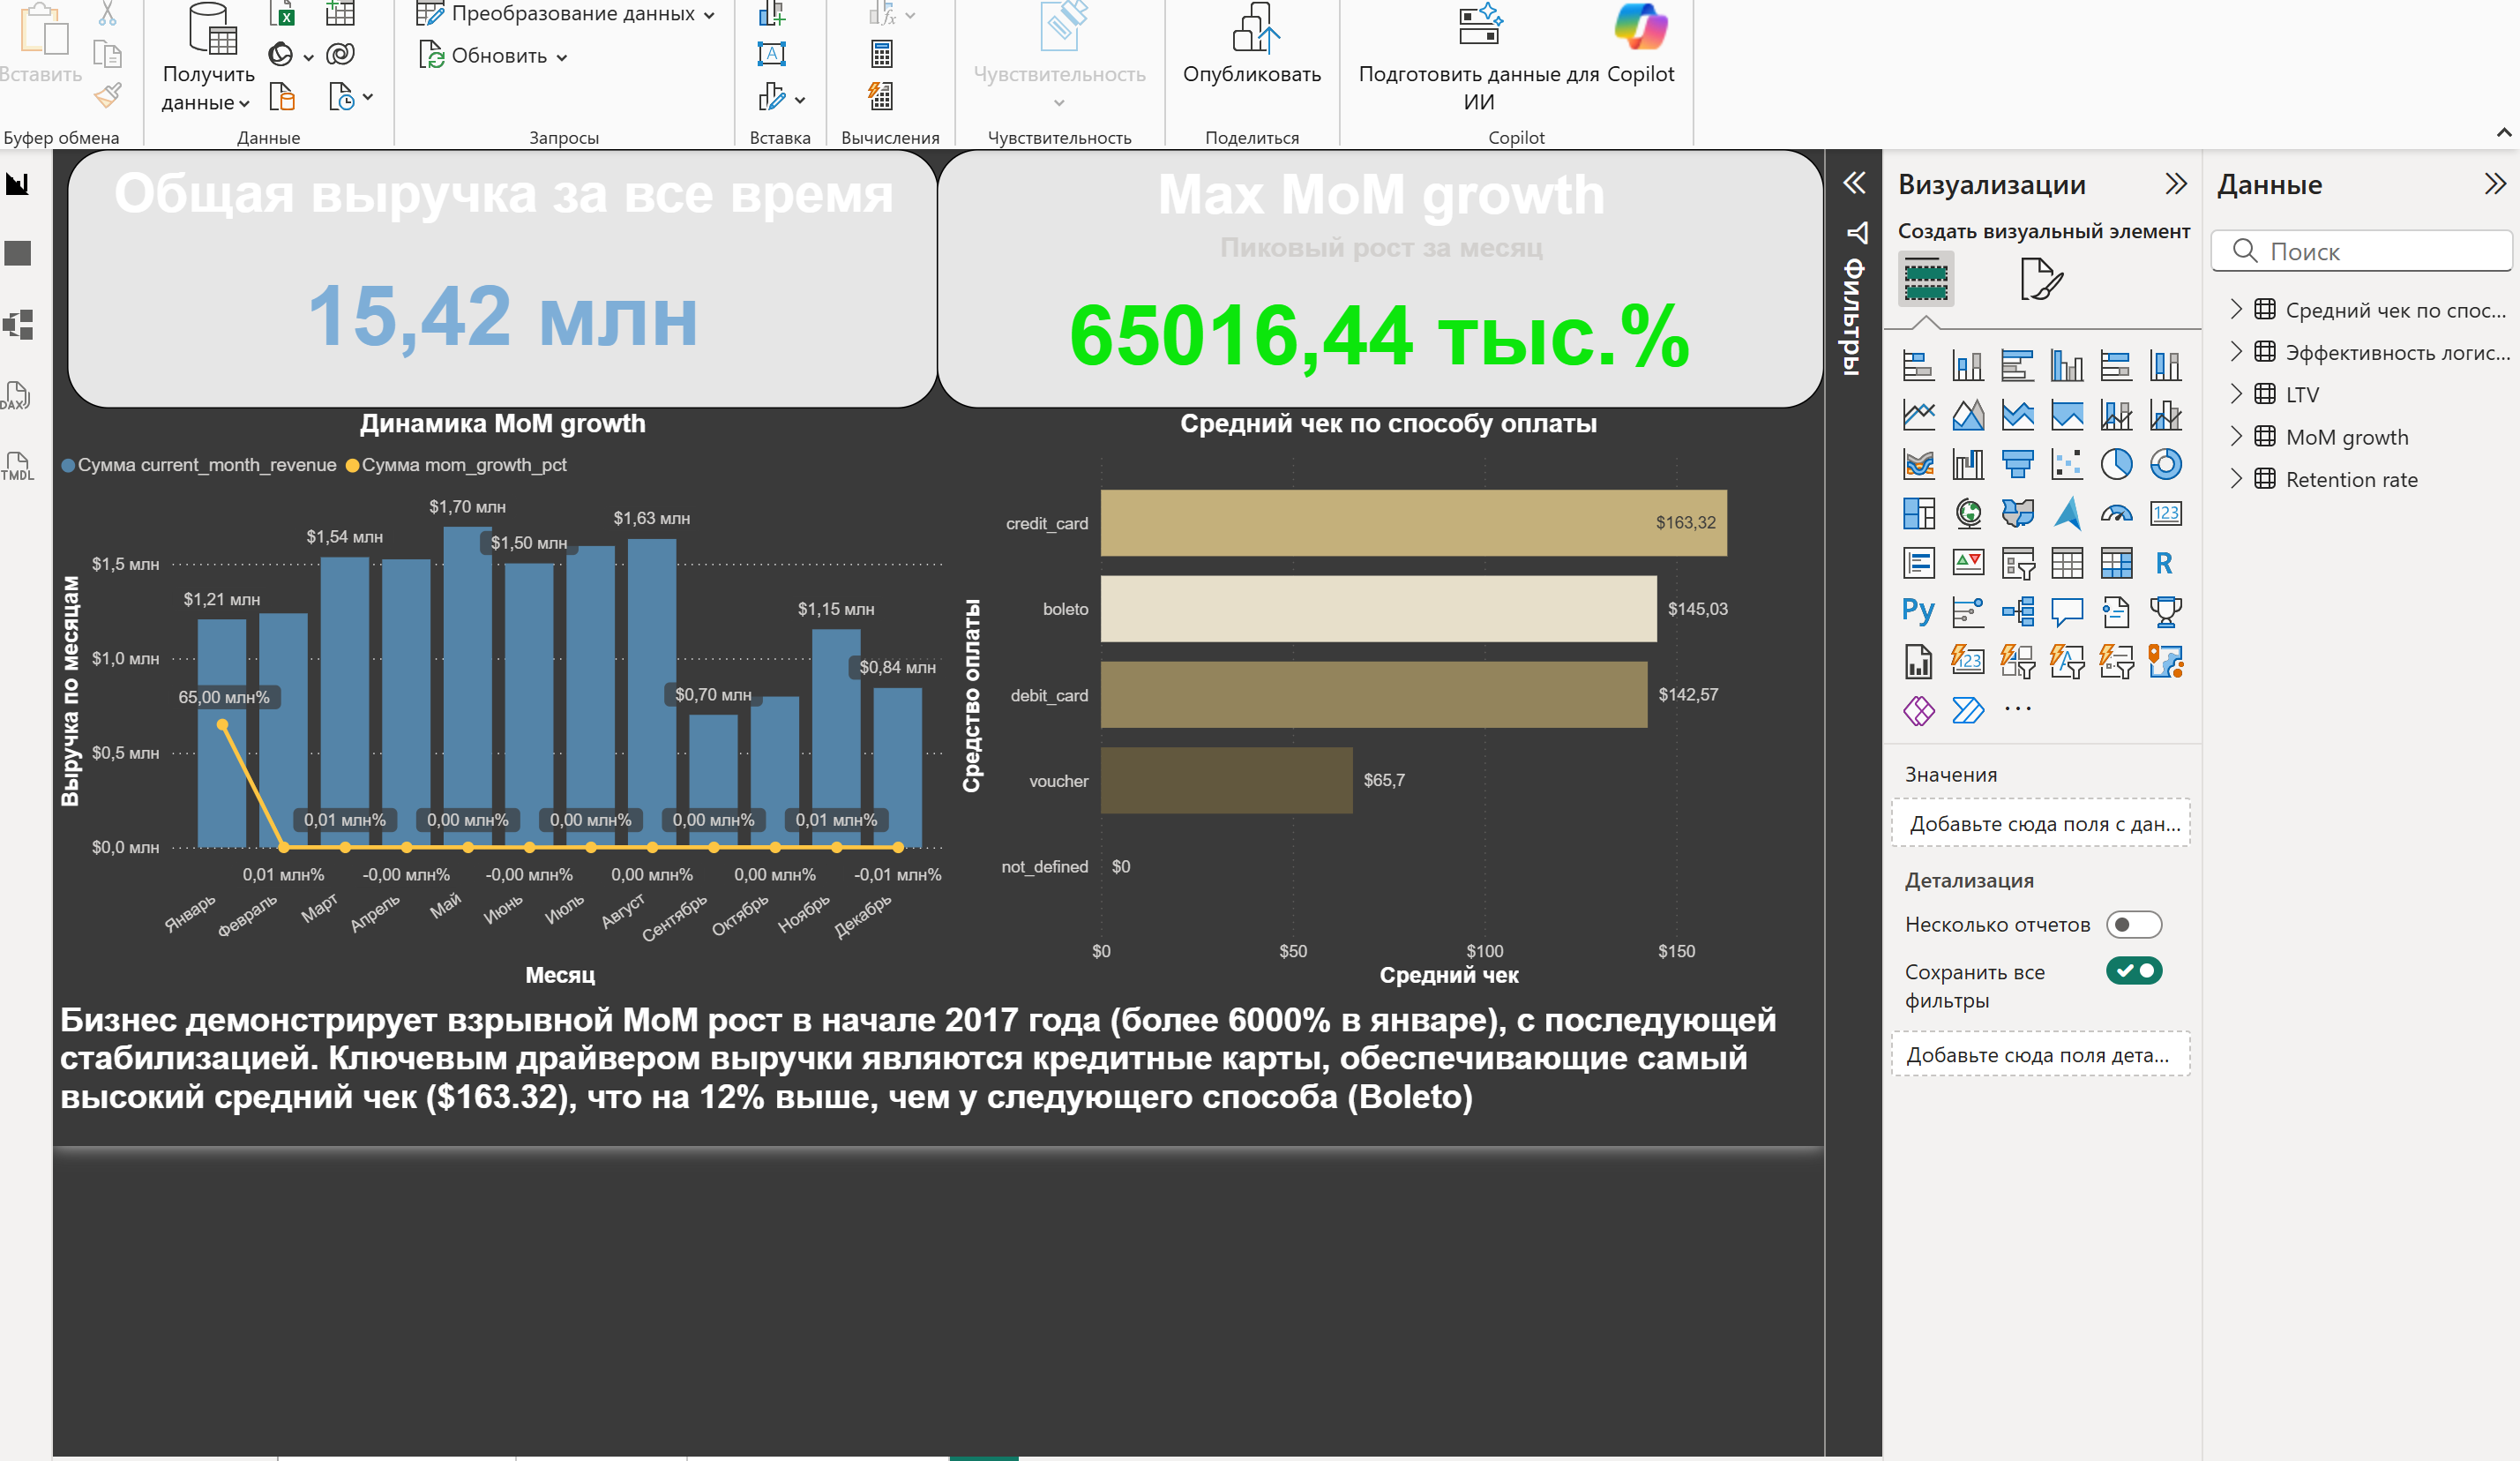

The dashboard page shown, as its layout file describes it:
{"tool":"powerbi","page":{"name":"Анализ выручки","canvas":[1280,720],"ordinal":0},"visuals":[{"type":"card","title":"Общая выручка за все время","fields":{"Values":["MoM growth.Total_revenue"]},"box":[10.2,0,629.8,187.4],"z":0},{"type":"card","title":"Max MoM growth","fields":{"Values":["Sum(MoM growth.mom_growth_pct)"]},"box":[638.7,0,641.3,187.4],"z":1000},{"type":"lineClusteredColumnComboChart","title":"Динамика MoM growth","fields":{"Category":["MoM growth.month.Изменение.Иерархия дат.Месяц"],"Y":["Sum(MoM growth.current_month_revenue)"],"Y2":["Sum(MoM growth.mom_growth_pct)"]},"box":[0,187.4,651.5,423.3],"z":2000},{"type":"clusteredBarChart","title":"Средний чек по способу оплаты","fields":{"Category":["Средний чек по способу оплаты.payment_type"],"Y":["Sum(Средний чек по способу оплаты.avg_revenue)"]},"box":[651.5,187.4,628.5,423.3],"z":3000},{"type":"textbox","box":[0,610.7,1280,109.6],"z":4000}]}

Visuals, with their boxes on the page's 1280x720 design canvas (x1, y1, x2, y2). These are canvas units, not pixel positions in the 2520x1461 screenshot, which may show the page scaled, cropped or inside an application window:
"Общая выручка за все время" card: box=[10, 0, 640, 187]
"Max MoM growth" card: box=[639, 0, 1280, 187]
"Динамика MoM growth" lineClusteredColumnComboChart: box=[0, 187, 652, 611]
"Средний чек по способу оплаты" clusteredBarChart: box=[652, 187, 1280, 611]
textbox: box=[0, 611, 1280, 720]
